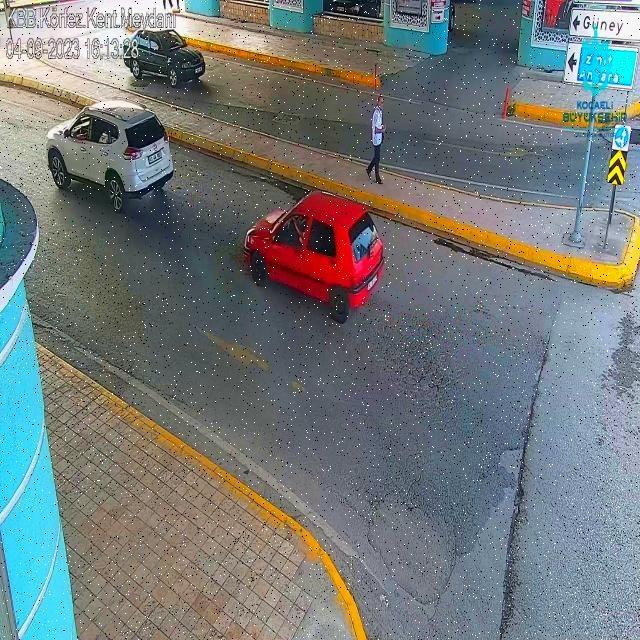Car: (242, 182, 386, 322), (48, 93, 170, 211), (120, 21, 211, 92)
